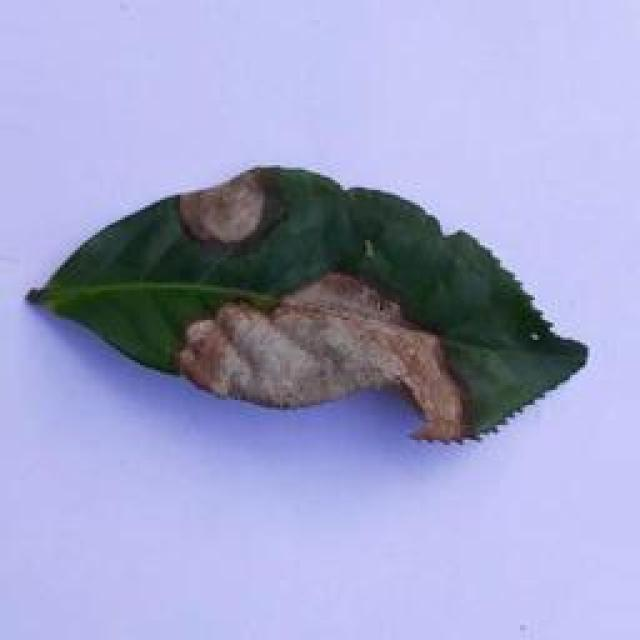Gray Blight: (29, 165, 590, 452)
